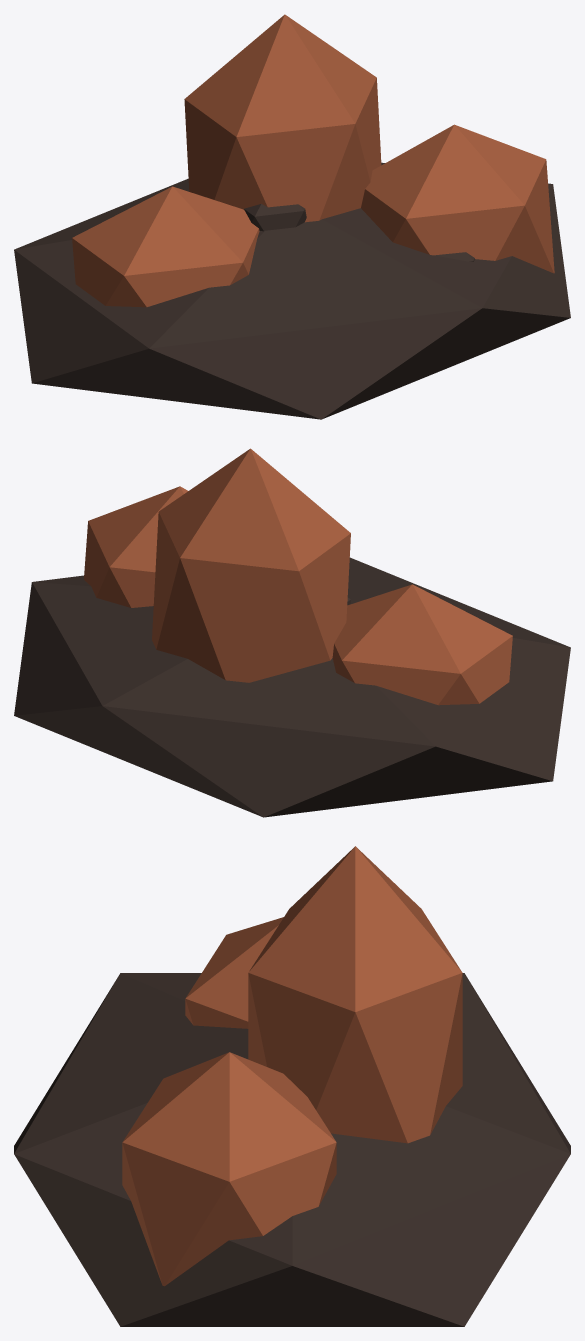
File: res_iron.glb
3 renders of one model, top to bottom at view 1: azimuth 30°, elevation 25°; view 2: azimuth 150°, elevation 25°; view 3: azimuth 270°, elevation 25°, orthographic. The views are drawn at different scales.
Visible parts, largest first — view 1: res_iron; view 2: res_iron; view 3: res_iron.
Boxes of the visible parts, x1=… form: res_iron: x1=14, y1=14, x2=570, y2=419; res_iron: x1=14, y1=448, x2=570, y2=817; res_iron: x1=14, y1=846, x2=570, y2=1326.
Bounding box in the file's own units: 0.3041 × 0.1728 × 0.2212.
